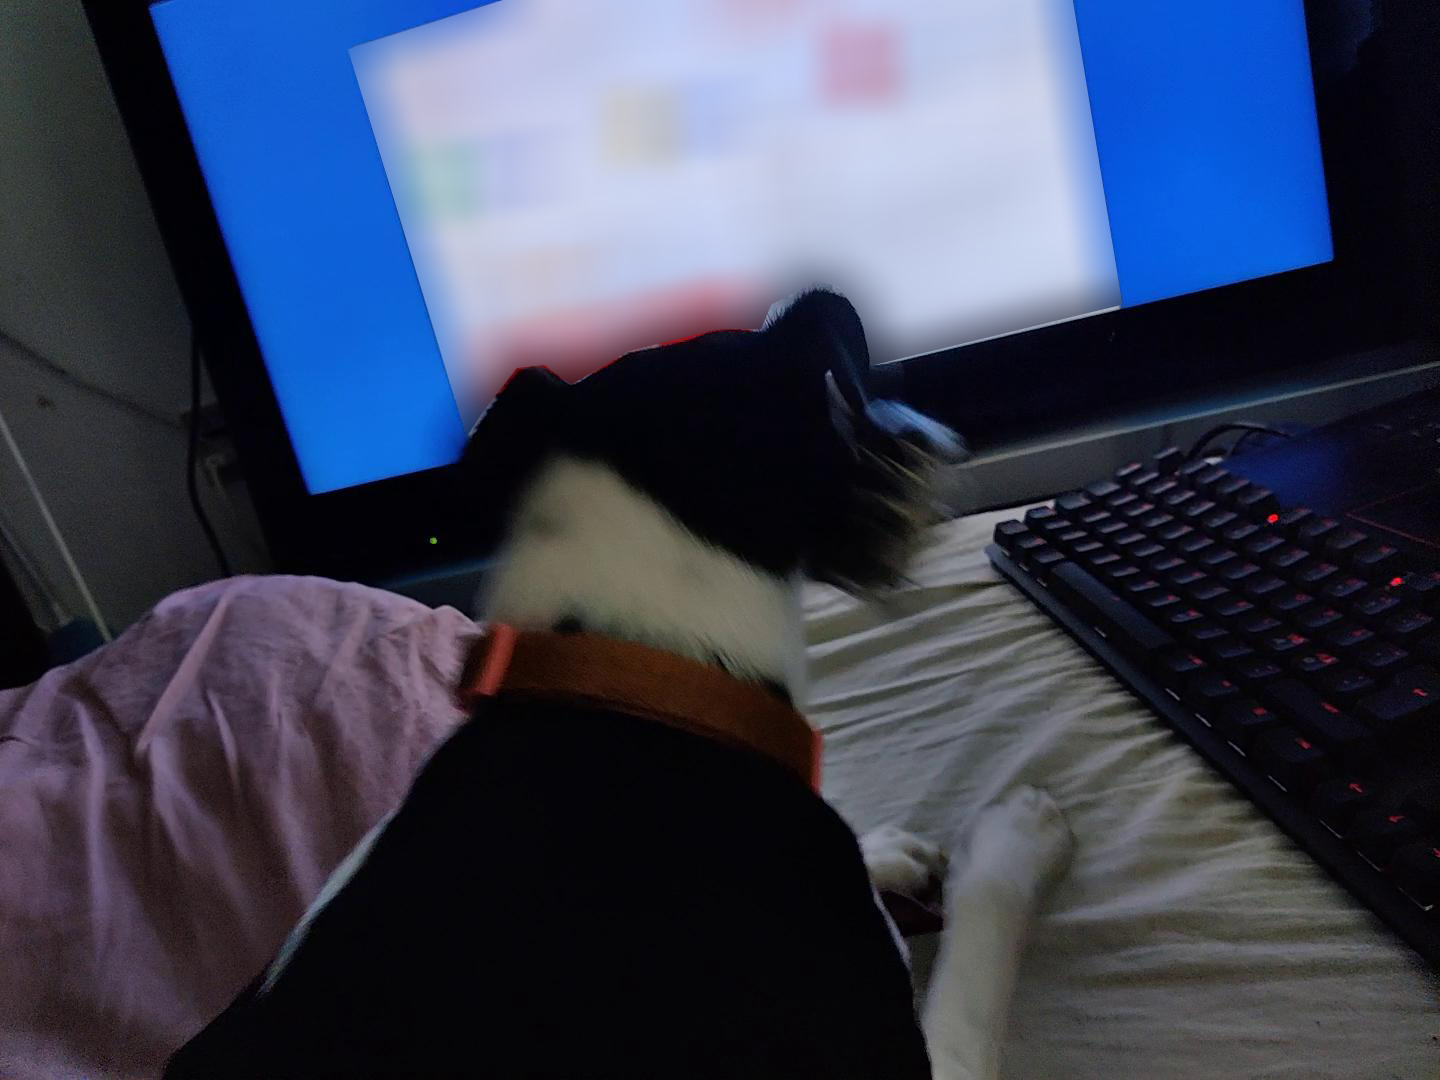Dog: (147, 271, 1083, 1079)
